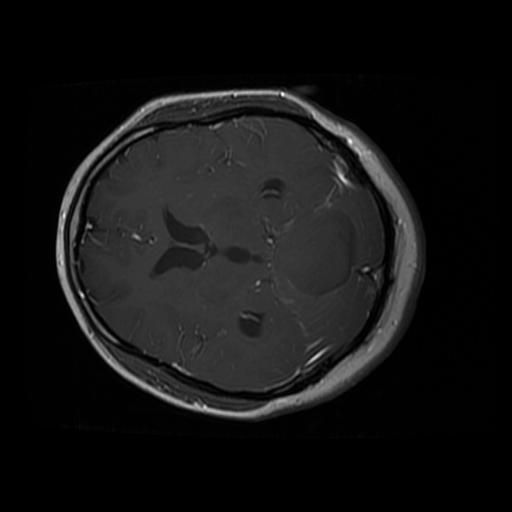glioma: (273, 203, 349, 290)
